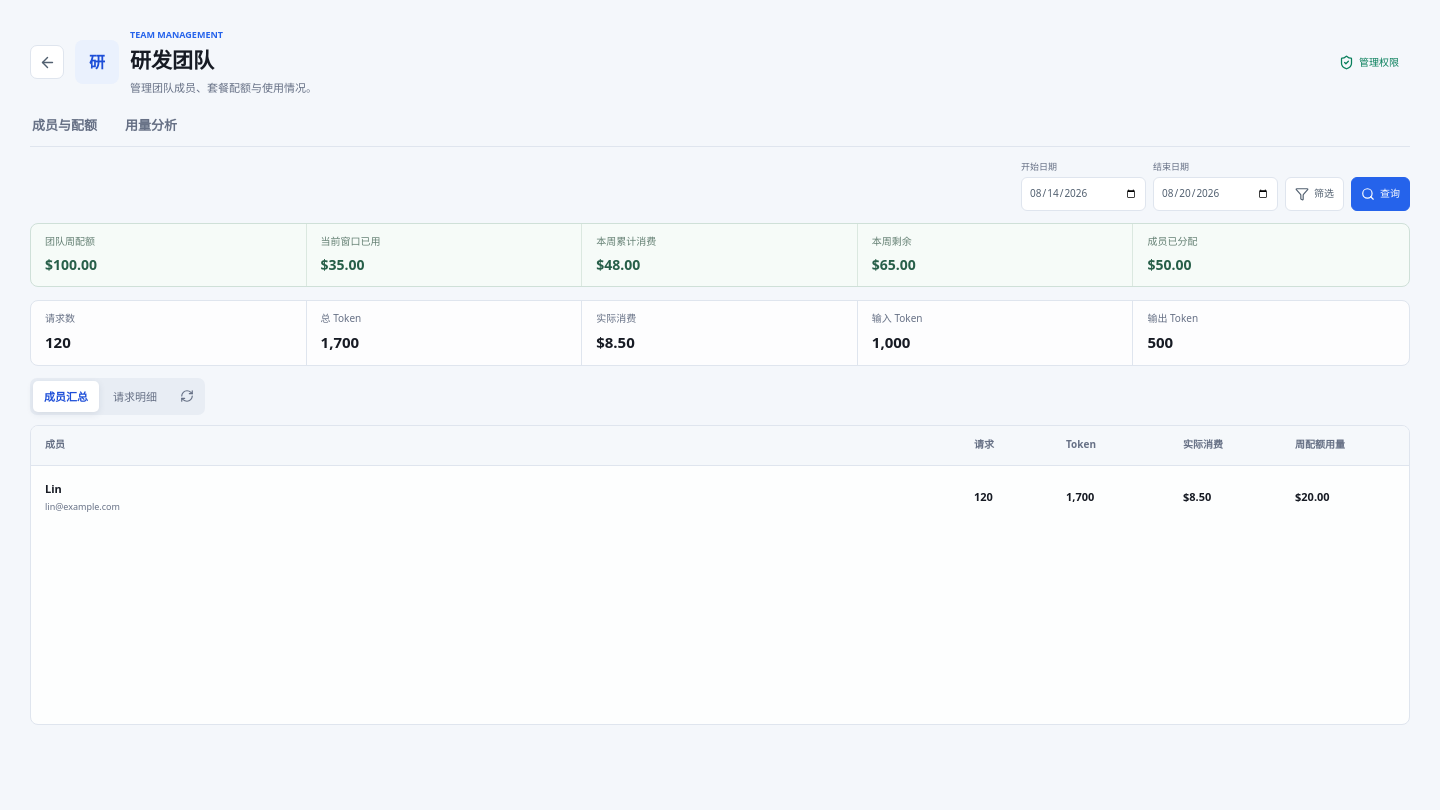
Test: UserGroupUsageView › shows only authorized Prompt actions and renders redacted details
The image size is (1440, 810).
Click the button "请求明细": (135, 396) [102,381,168,412]
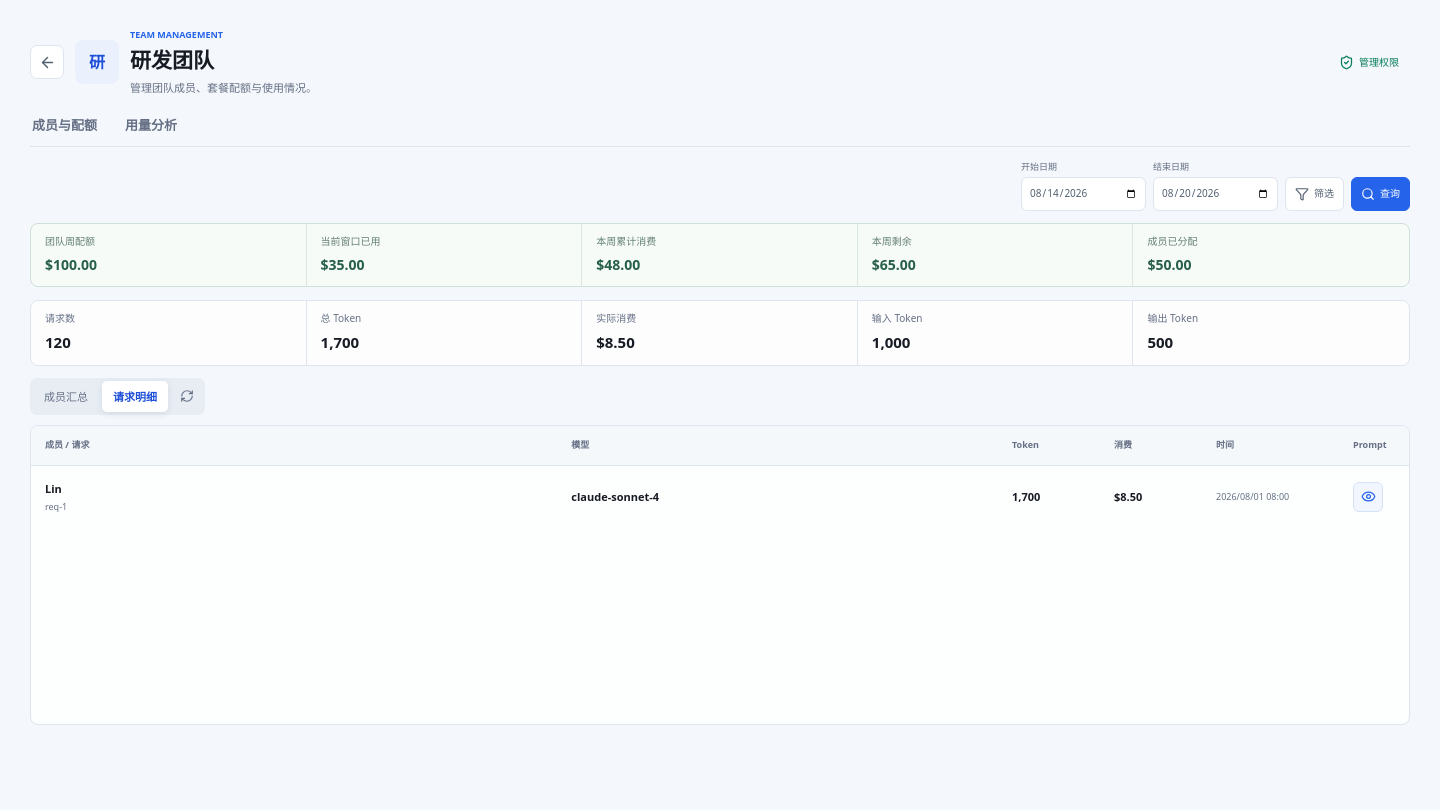
Click the button with test id "prompt-details-1": (1368, 497) [1353,482,1383,512]
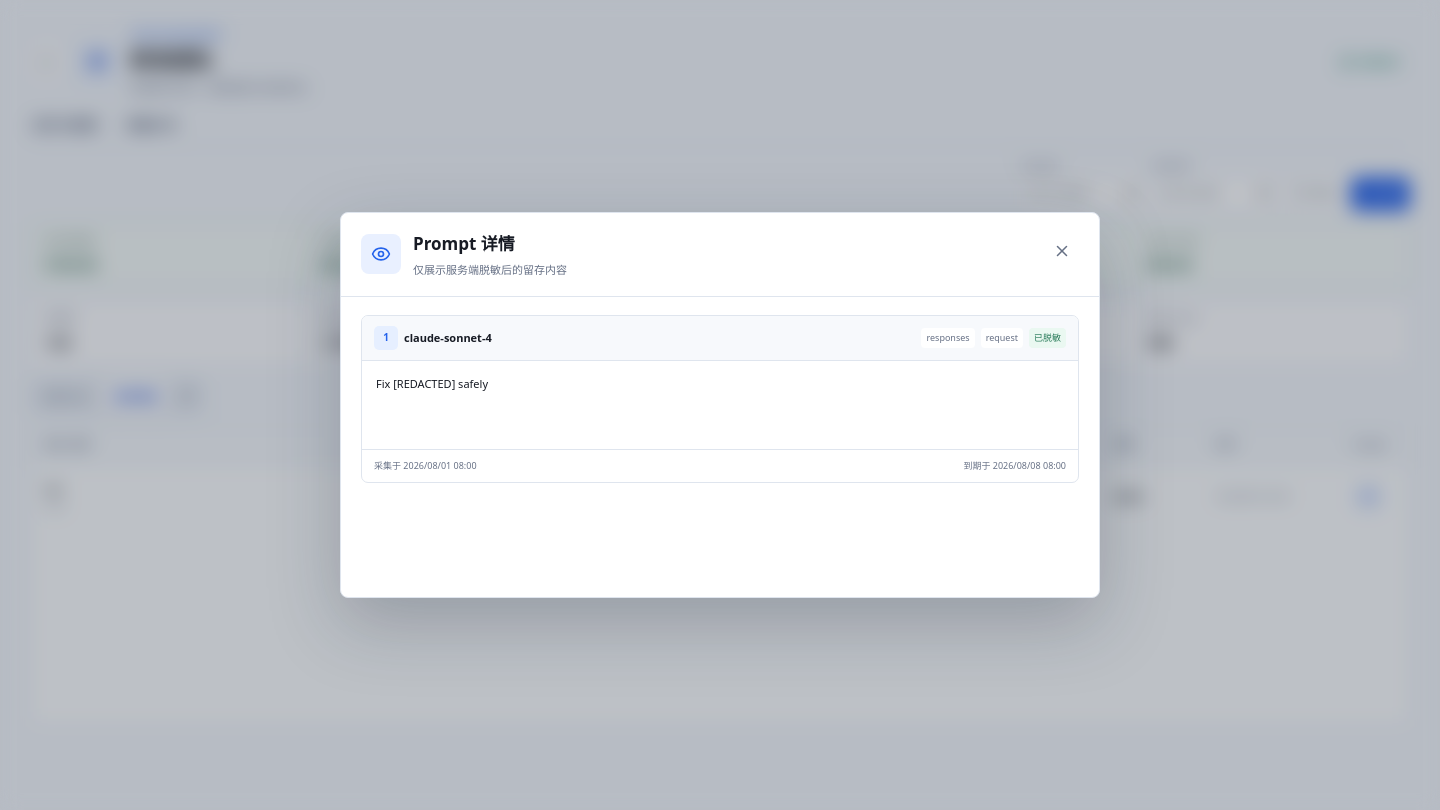
expect the text "Fix [REDACTED] safely" is shown: met, box [376,376,488,391]
expect the text "已脱敏" is shown: met, box [1029,328,1066,348]
